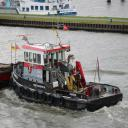tugboat: (11, 32, 125, 116)
